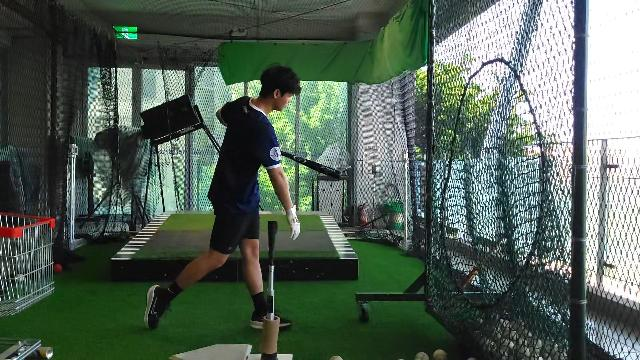baseball bat: (281, 148, 343, 180)
